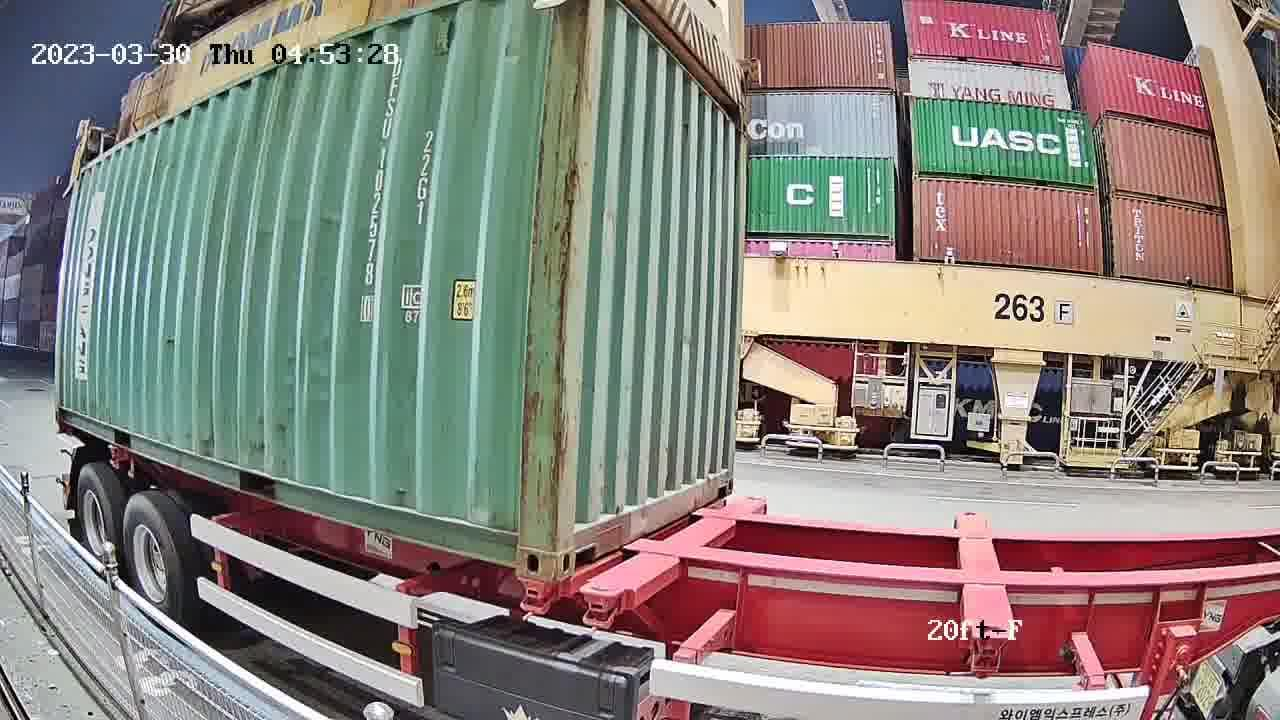Chassis: (583, 497, 766, 608)
Cone: (582, 584, 626, 634), (516, 576, 553, 622)
Hole_L: (553, 496, 601, 583)
Hole_R: (489, 499, 557, 582), (709, 458, 734, 501)
Tire: (122, 492, 182, 621), (75, 466, 118, 566)
